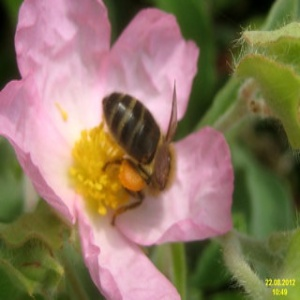bee: (102, 90, 181, 199)
